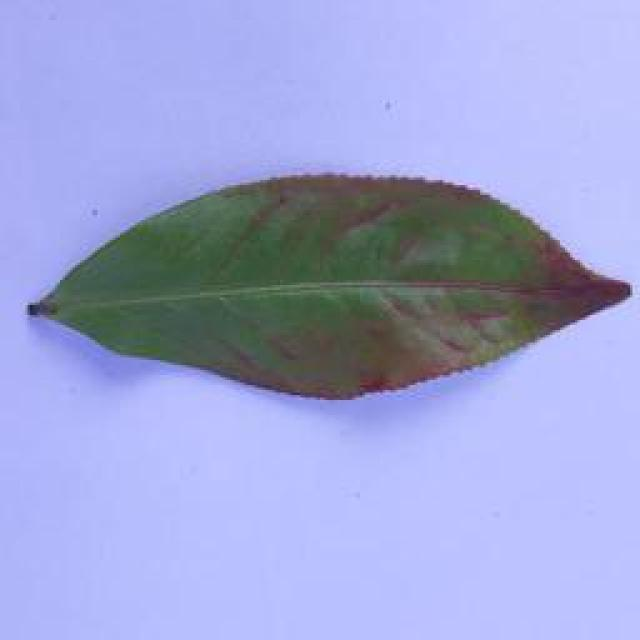Red Leaf Spot: (0, 176, 640, 405)
